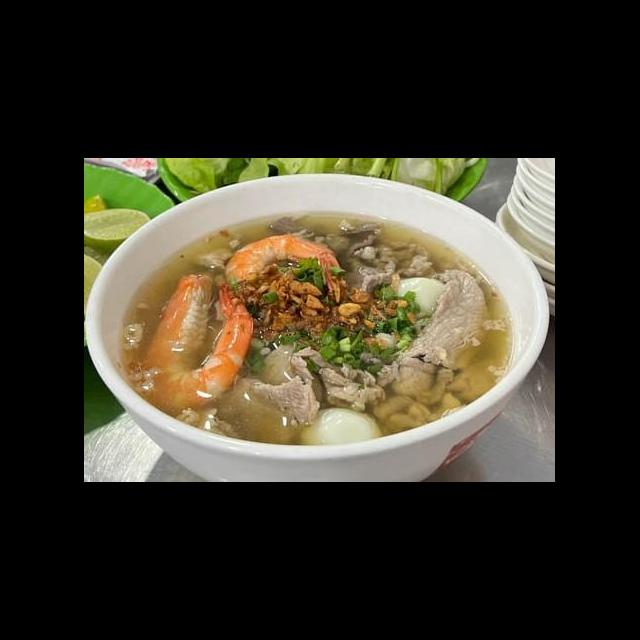thit bam: (116, 318, 166, 396)
thit heo: (394, 265, 494, 376), (174, 373, 322, 444), (340, 238, 440, 298), (254, 339, 328, 412), (372, 353, 457, 408), (316, 360, 390, 416)
tom: (138, 268, 258, 416), (222, 231, 350, 318)
trung: (294, 403, 384, 450), (386, 273, 452, 321)
